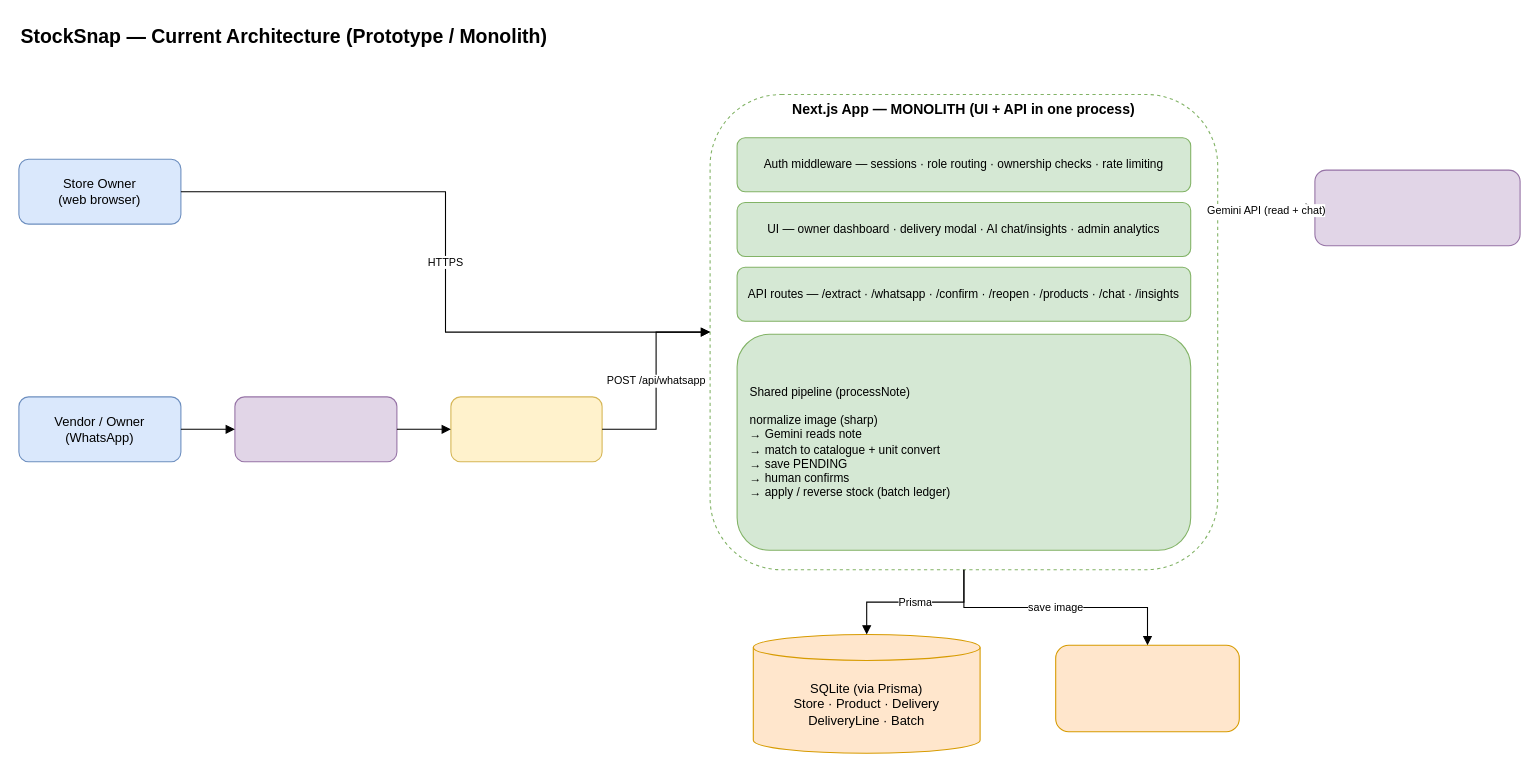
Some shapes in this 1539 by 772 pixel diagram are drawn without their labels. Here are the shapes that lost their labels. From the top down, the centre of each, then its label:
At (x=1417, y=207): "Google Gemini 2.5 Flash (vision + text)".
At (x=315, y=429): "Twilio (WhatsApp bridge)".
At (x=526, y=429): "cloudflared tunnel (dev)".
At (x=1147, y=688): "Local disk /public/uploads (note images)".
